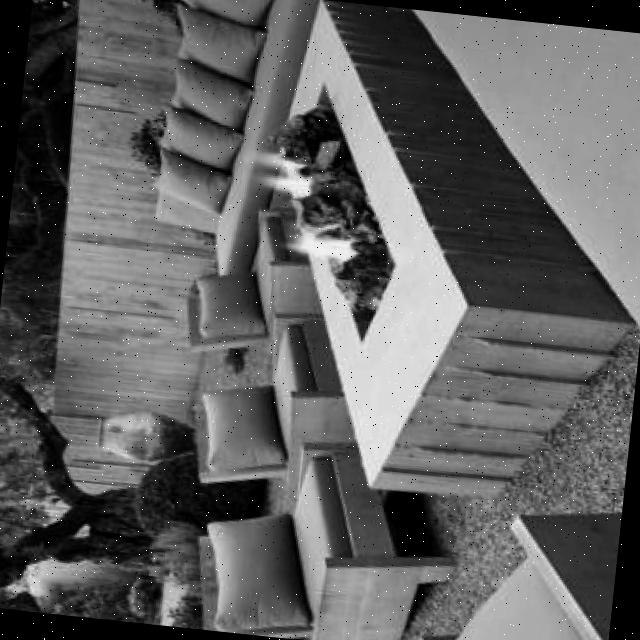fire: (231, 128, 377, 274)
